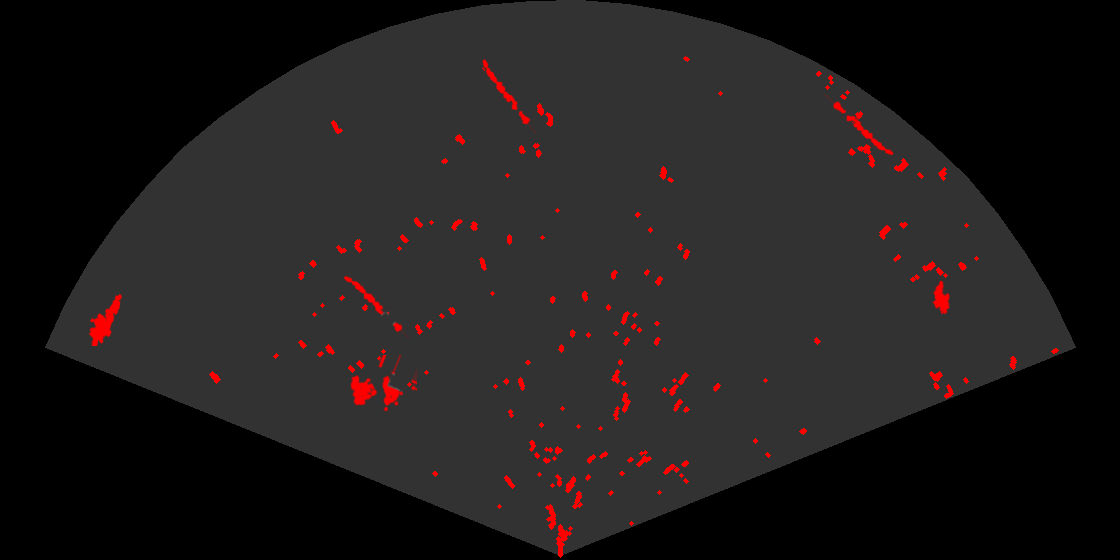AUV: (931, 279, 952, 316)
cage: (349, 355, 417, 413)
chain: (822, 94, 895, 157), (342, 274, 411, 338), (481, 58, 536, 134)
frogman: (87, 292, 123, 346)
